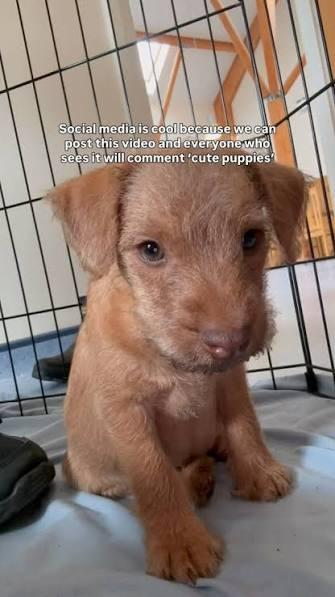puppy-dog: (40, 152, 309, 585)
